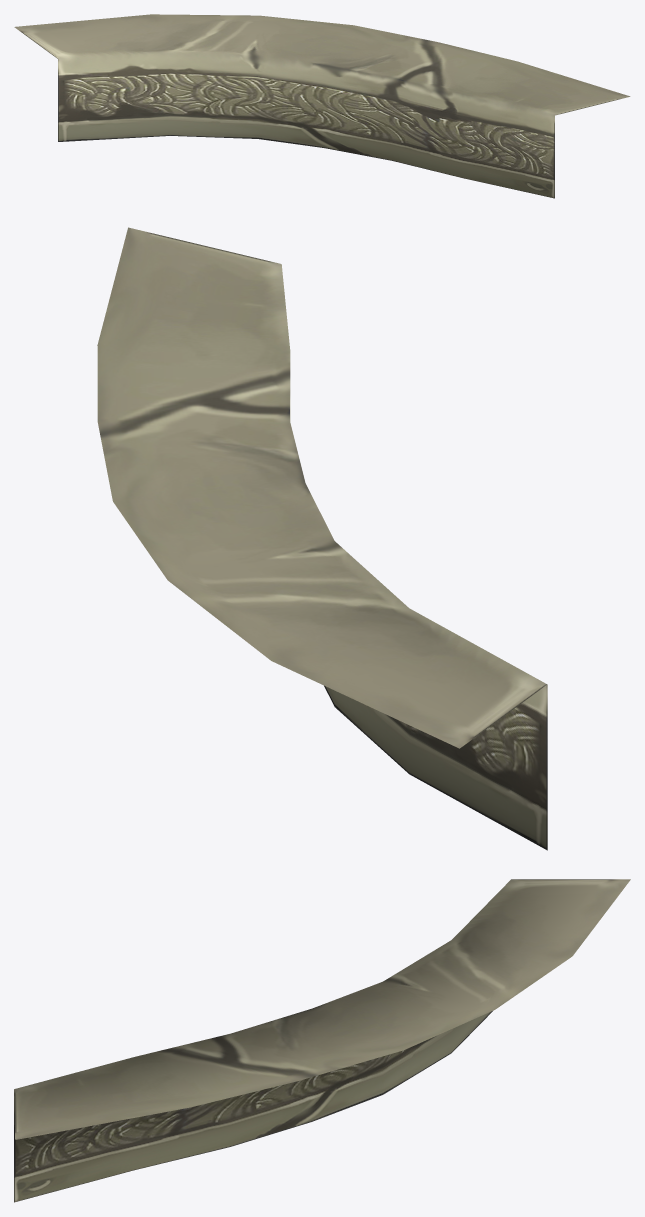
Rendered from wall_concave2_base.fbx.
3 renders of one model, top to bottom at view 1: azimuth 30°, elevation 25°; view 2: azimuth 150°, elevation 25°; view 3: azimuth 270°, elevation 25°, orthographic. The views are drawn at different scales.
Parts seen in each view (by area): view 1: concave2_v_base; view 2: concave2_v_base; view 3: concave2_v_base.
Part boxes in pixels (bbox=[...]): concave2_v_base: bbox=[14, 14, 630, 198]; concave2_v_base: bbox=[97, 227, 547, 850]; concave2_v_base: bbox=[14, 879, 630, 1202].
Bounding box in the file's own units: 2 × 0.4055 × 2.
